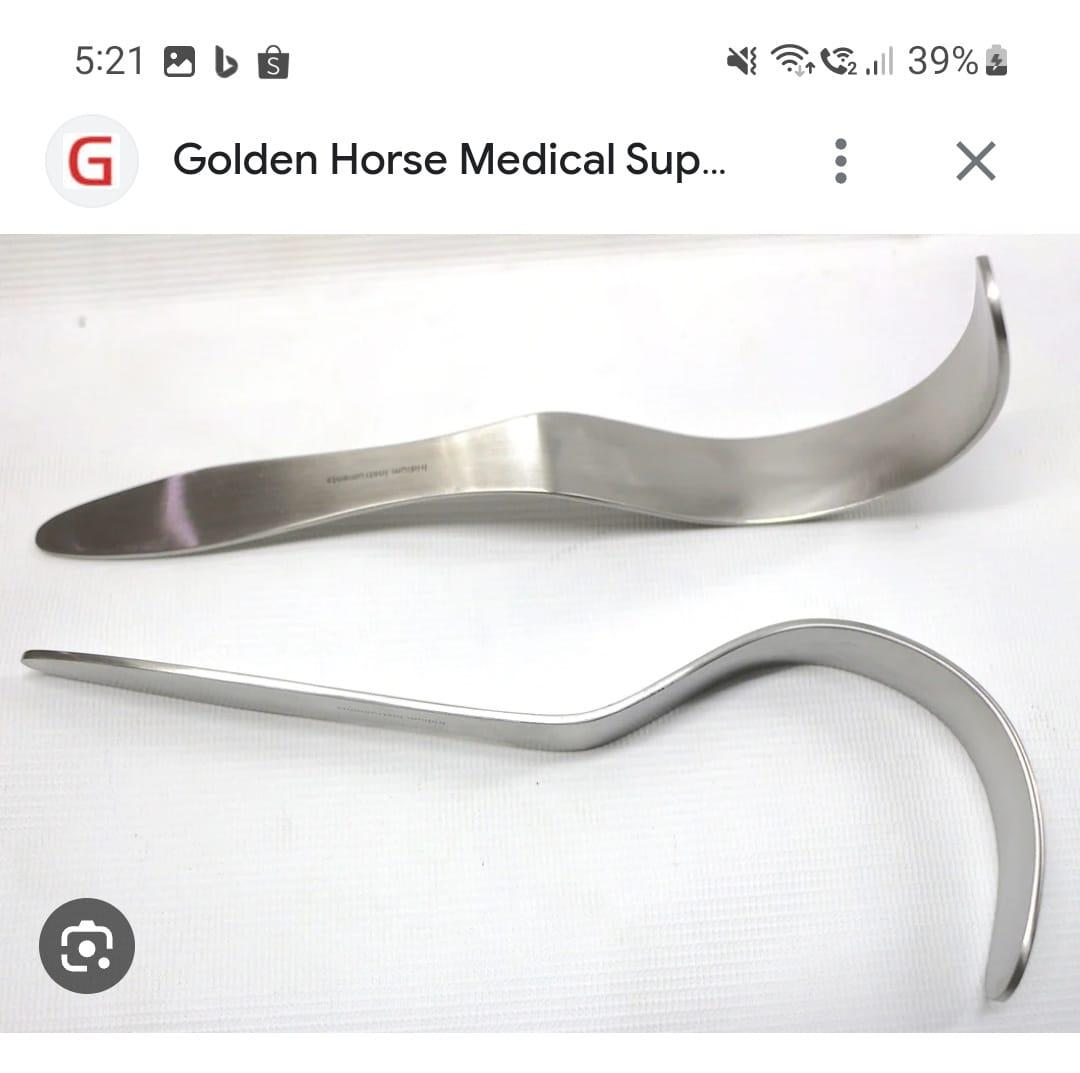Deaver Retractor: (23, 605, 1052, 1002), (27, 248, 1013, 580)
